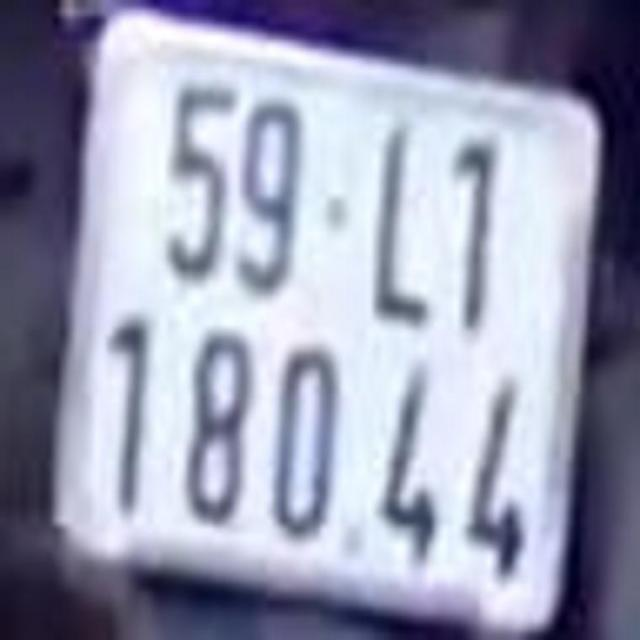0: (277, 337, 333, 537)
1: (99, 312, 148, 506), (453, 128, 494, 331)
4: (378, 360, 442, 568), (464, 369, 523, 577)
5: (162, 80, 226, 277)
8: (189, 324, 246, 524)
9: (241, 98, 299, 293)
L: (376, 122, 433, 329)
